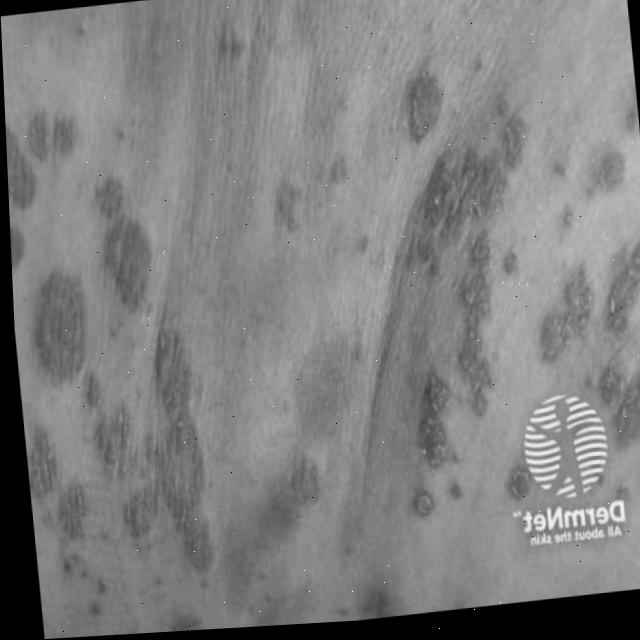Eczema: (2, 13, 640, 640)
